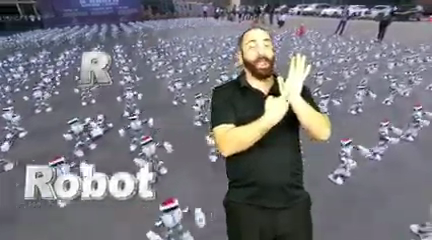R: (261, 49, 315, 125)
